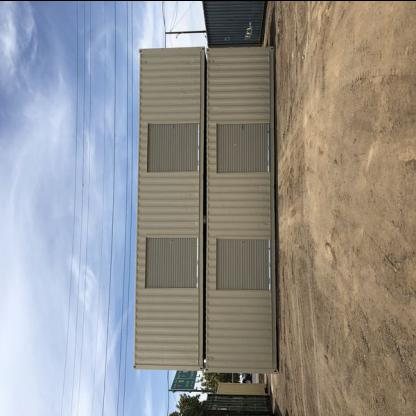Damage: (164, 118, 178, 134), (237, 233, 247, 248), (236, 118, 245, 132)
